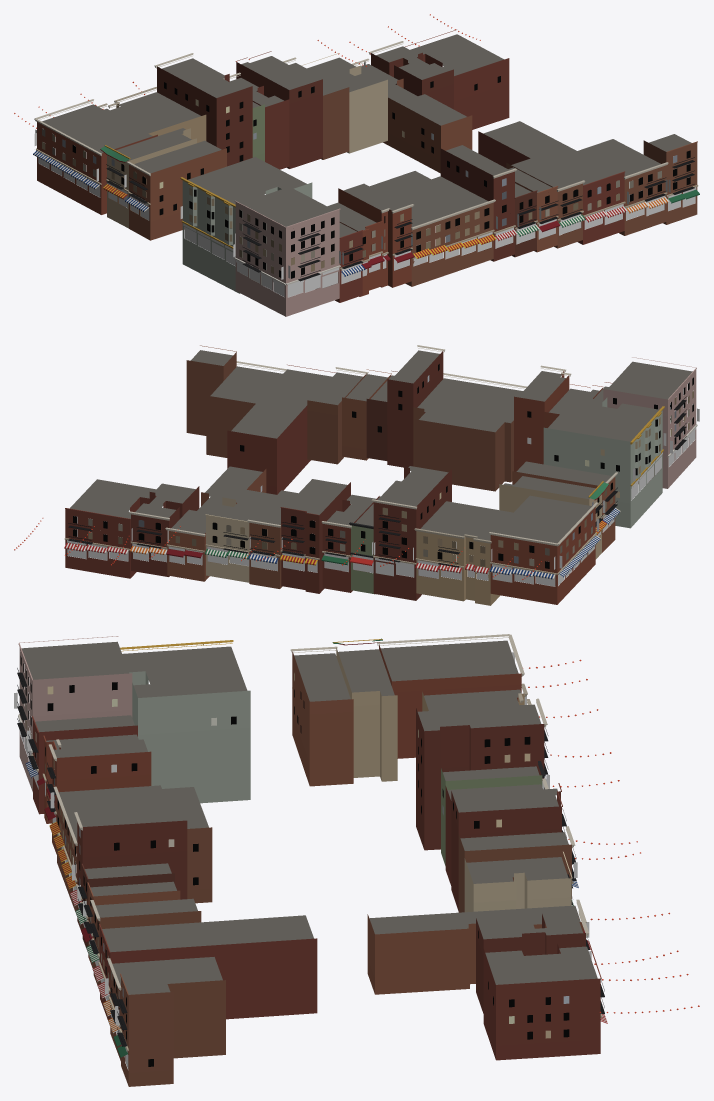
3 renders of one model, top to bottom at view 1: azimuth 30°, elevation 25°; view 2: azimuth 150°, elevation 25°; view 3: azimuth 270°, elevation 25°, orthographic. The views are drawn at different scales.
Visible parts, largest first — view 1: L1_brickred, L1_roof, L1_stucco, L1_d_brickred, L1_win, L1_shopint, L1_stone, L1_d_brick, L1_d_fabric, L1_d_metal, L1_sign, L1_brick; view 2: L1_roof, L1_brickred, L1_d_brickred, L1_stucco, L1_brick, L1_shopint, L1_win, L1_stone, L1_d_fabric, L1_d_metal, L1_sign, L1_d_brick (+1 smaller); view 3: L1_roof, L1_brickred, L1_d_brickred, L1_stucco, L1_brick, L1_stone, L1_win, L1_d_metal, L1_d_fabric, L1_d_stucco, L1_sign, L1_d_brick.
Boxes of the visible parts, <box> form: L1_brickred: <box>37,52,697,302</box>; L1_roof: <box>42,34,691,237</box>; L1_stucco: <box>182,104,339,316</box>; L1_d_brickred: <box>101,53,666,302</box>; L1_win: <box>42,76,690,278</box>; L1_shopint: <box>38,158,695,297</box>; L1_stone: <box>34,29,698,285</box>; L1_d_brick: <box>94,79,387,220</box>; L1_d_fabric: <box>33,151,699,276</box>; L1_d_metal: <box>106,157,694,281</box>; L1_sign: <box>34,61,696,286</box>; L1_brick: <box>107,65,361,228</box>; L1_roof: <box>70,350,692,543</box>; L1_brickred: <box>65,351,615,604</box>; L1_d_brickred: <box>130,352,602,592</box>; L1_stucco: <box>351,370,696,594</box>; L1_brick: <box>206,494,601,605</box>; L1_shopint: <box>67,430,695,586</box>; L1_win: <box>73,364,693,568</box>; L1_stone: <box>64,345,697,574</box>; L1_d_fabric: <box>64,508,620,579</box>; L1_d_metal: <box>68,396,686,567</box>; L1_sign: <box>67,408,699,576</box>; L1_d_brick: <box>253,484,589,605</box>; L1_roof: <box>21,640,597,994</box>; L1_brickred: <box>33,651,600,1086</box>; L1_d_brickred: <box>39,644,585,1061</box>; L1_stucco: <box>19,648,445,865</box>; L1_brick: <box>352,691,571,911</box>; L1_stone: <box>18,634,602,1051</box>; L1_win: <box>20,656,569,1066</box>; L1_d_metal: <box>17,668,604,1046</box>; L1_d_fabric: <box>25,761,607,1058</box>; L1_d_stucco: <box>445,775,542,789</box>; L1_sign: <box>14,652,591,1052</box>; L1_d_brick: <box>336,647,473,928</box>.
Bounding box in the file's own units: 132 × 31.92 × 121.
